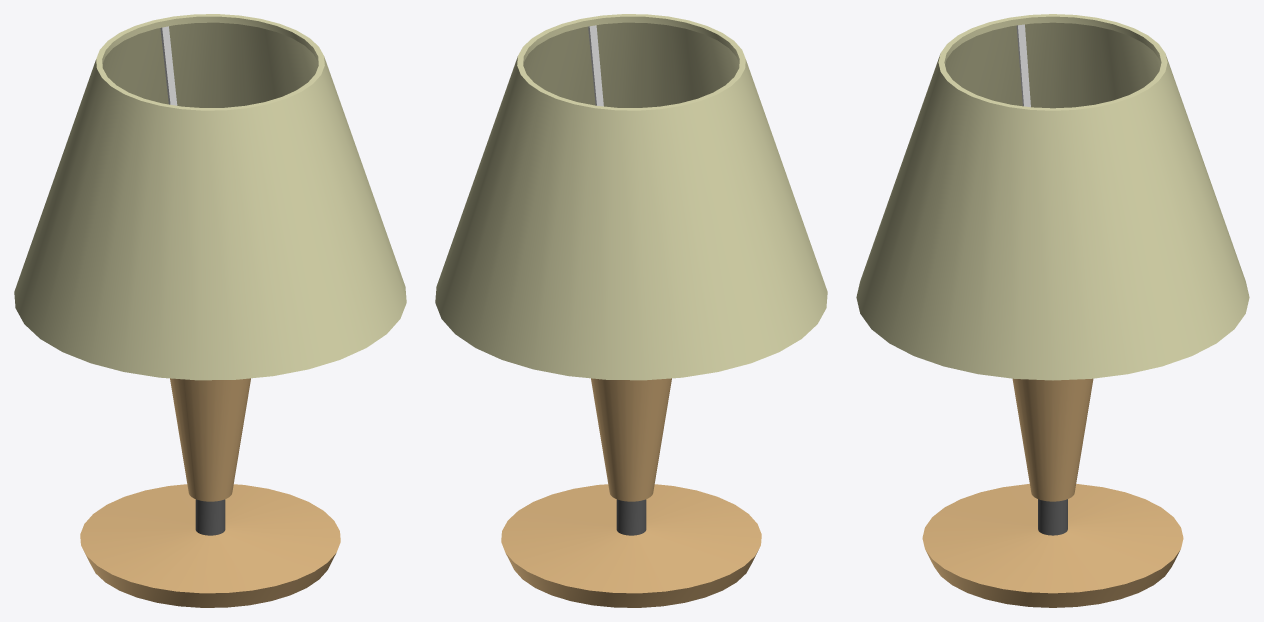
The model's file is sh_scopia_little_lamp2.glb.
3 renders of one model, left to right at view 1: azimuth 30°, elevation 25°; view 2: azimuth 150°, elevation 25°; view 3: azimuth 270°, elevation 25°, orthographic.
Size of what is drawn, in the model's own units: 0.31 by 0.43 by 0.31.
